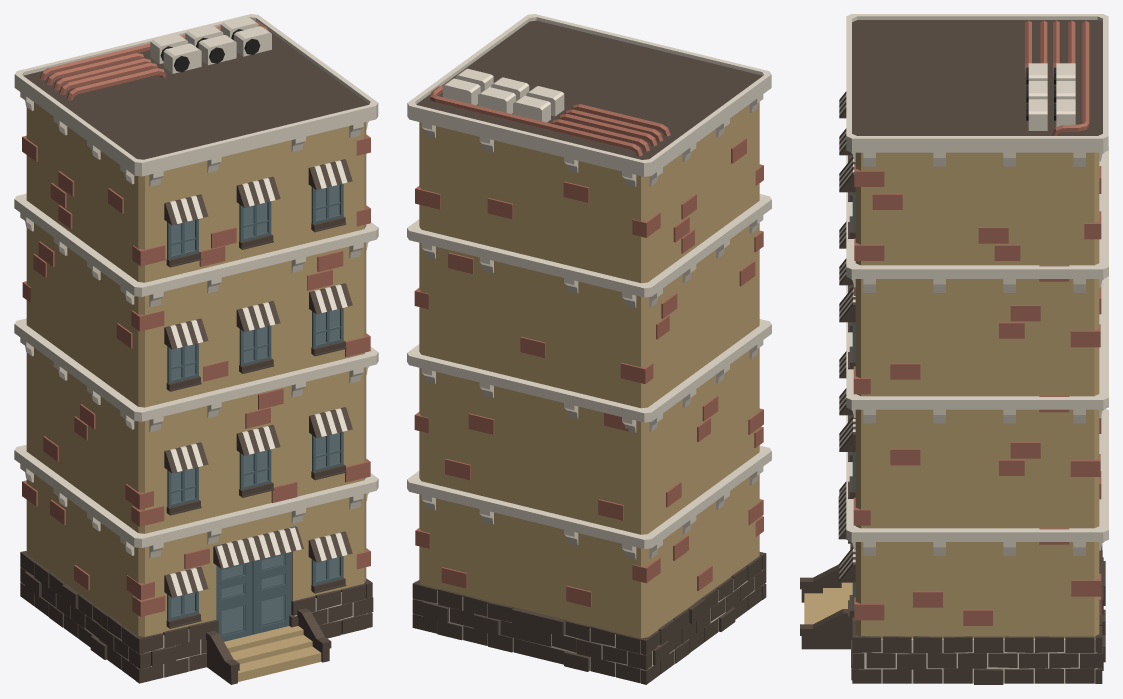
Rendered from cairo-block-4story.glb.
3 renders of one model, left to right at view 1: azimuth 30°, elevation 25°; view 2: azimuth 150°, elevation 25°; view 3: azimuth 270°, elevation 25°, orthographic. The views are drawn at different scales.
Bounding box in the file's own units: 2.42 × 5.09 × 2.53.
